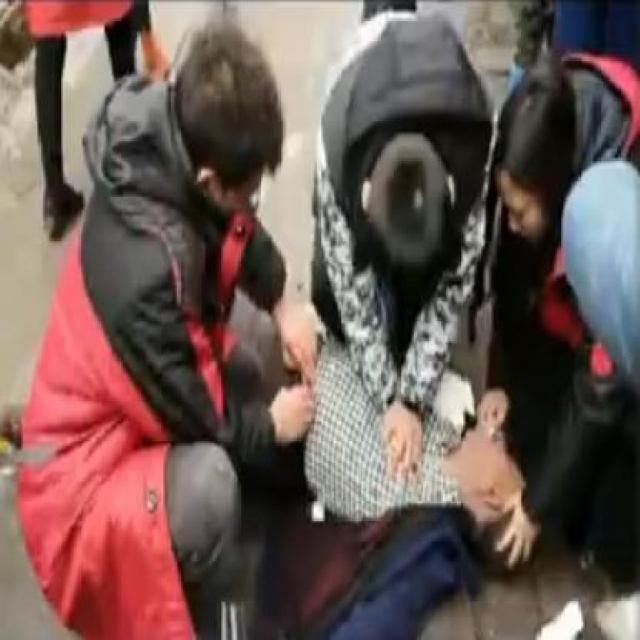fall: (240, 276, 543, 632)
